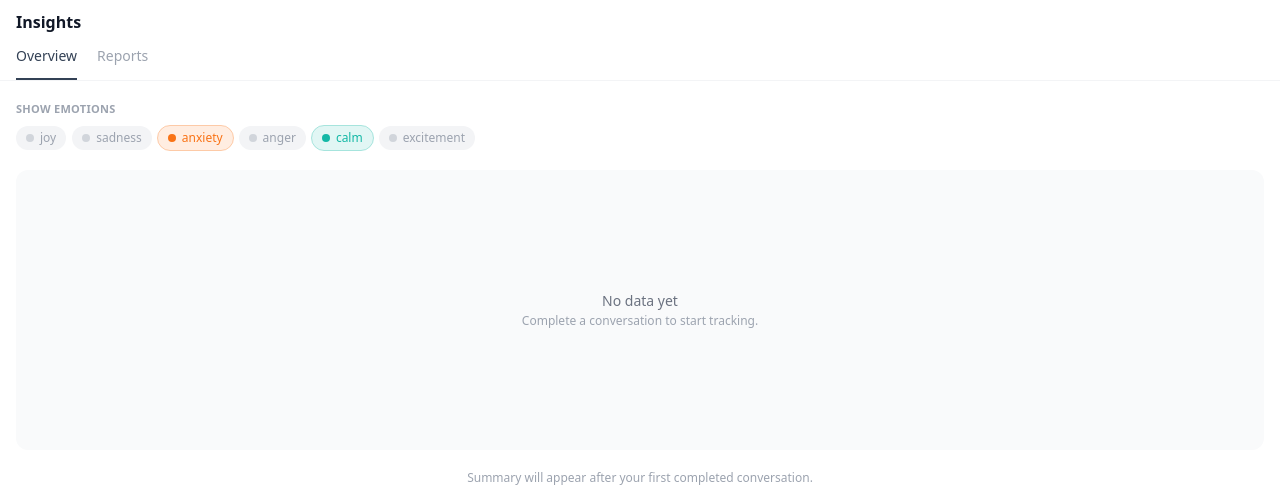
Test: InsightsScreen — report cards › renders a card for each report
Click the tab "Reports": (123, 63) [97, 46, 148, 80]
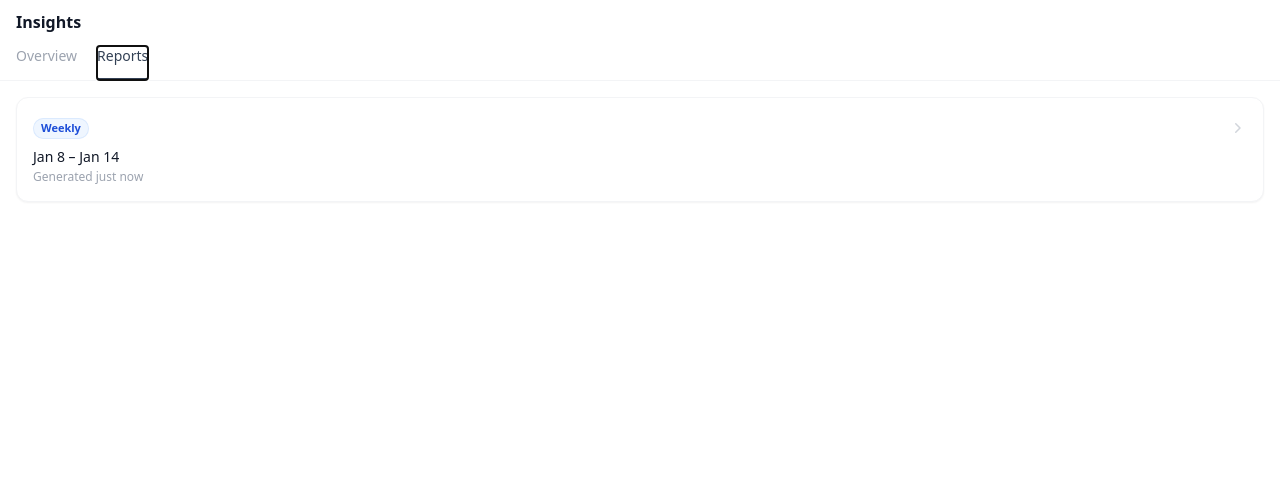
Now the link with aria-label "weekly insight report" is shown, box [16, 97, 1264, 202]
